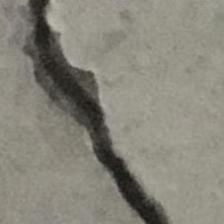Crack: (14, 1, 216, 224)
